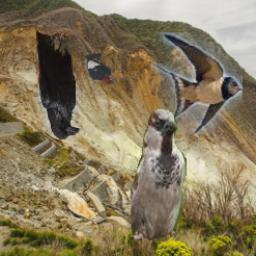Crow: (35, 31, 80, 140)
Sparrow: (131, 105, 187, 251)
Swallow: (149, 32, 241, 134)
Woodpecker: (83, 53, 118, 85)
